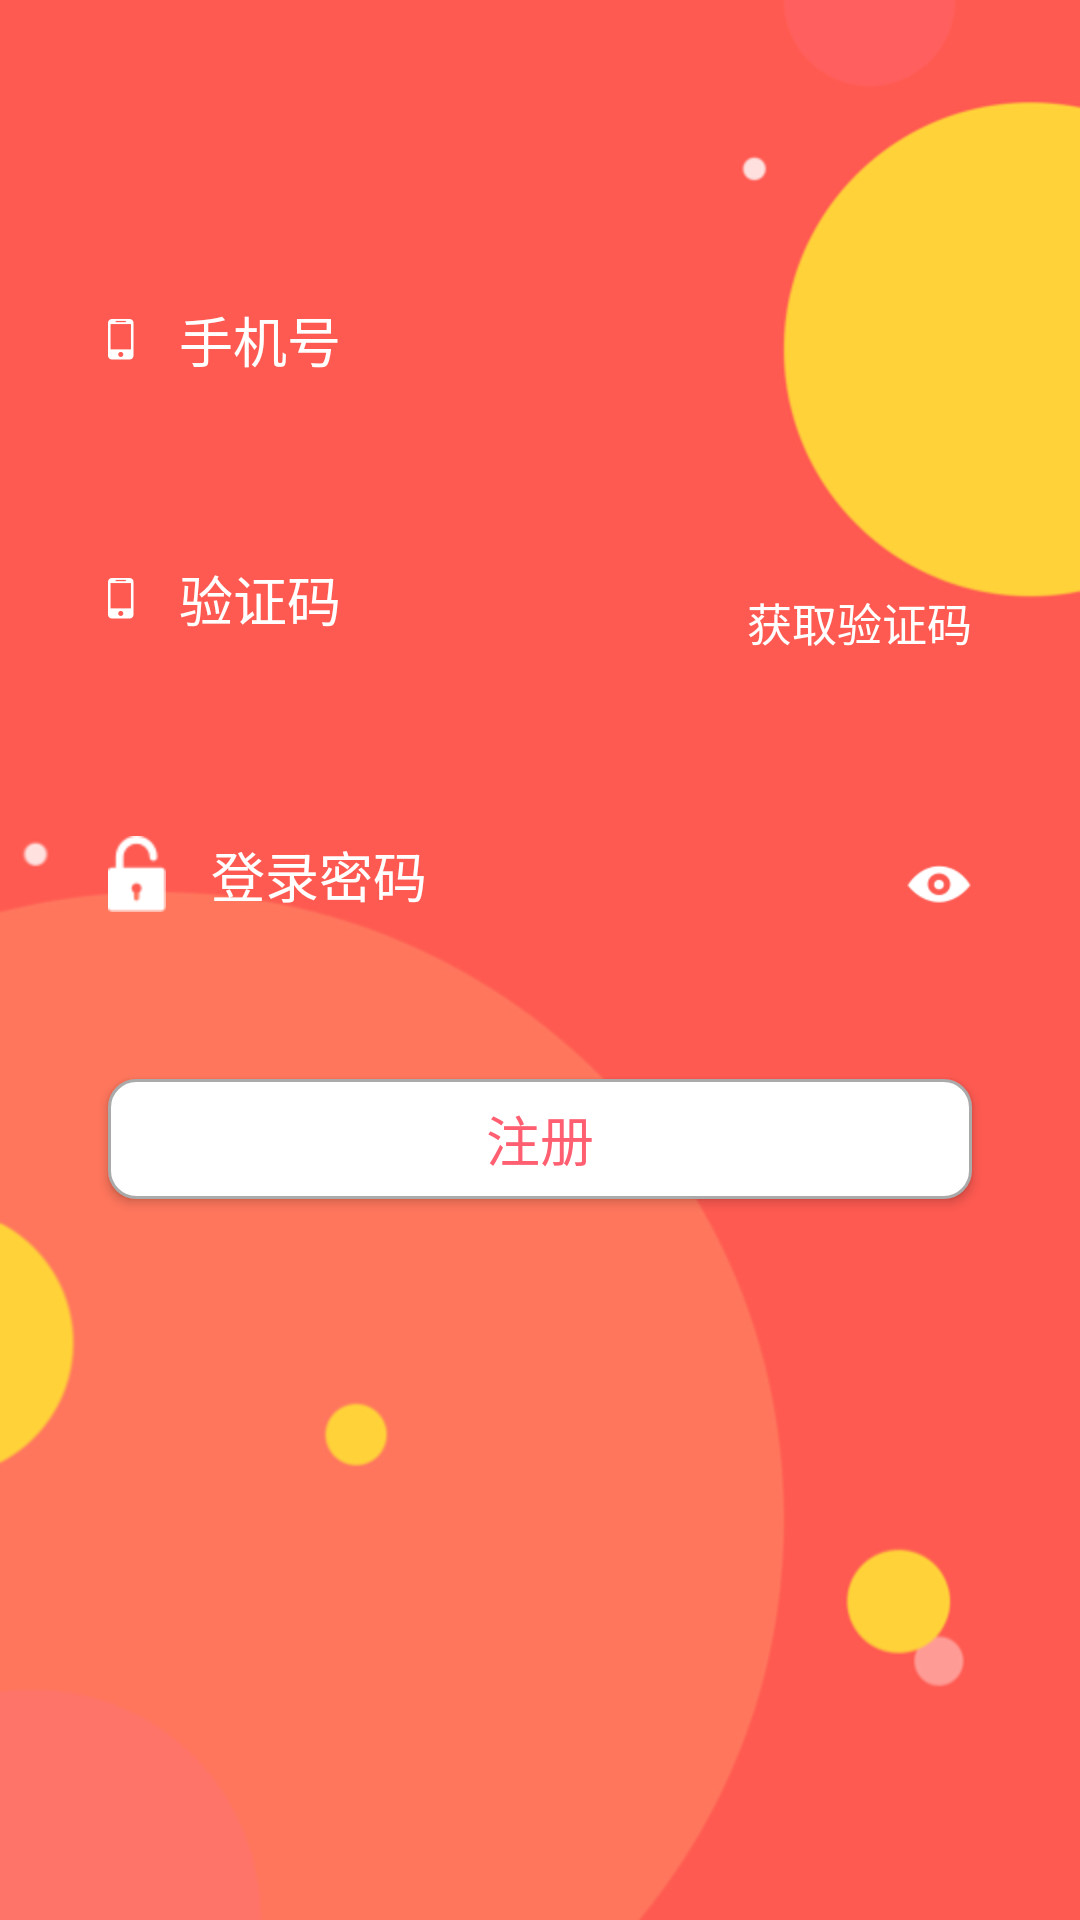

Icons on this 1080*1920 Android screen, each with the point to tap as (x=x, y=y):
login eye: (x=939, y=884)
